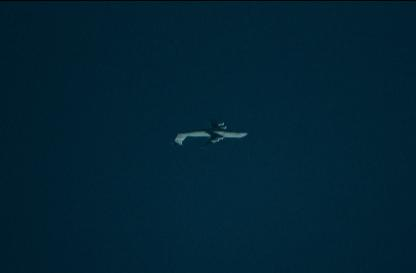C17: (169, 120, 249, 148)
